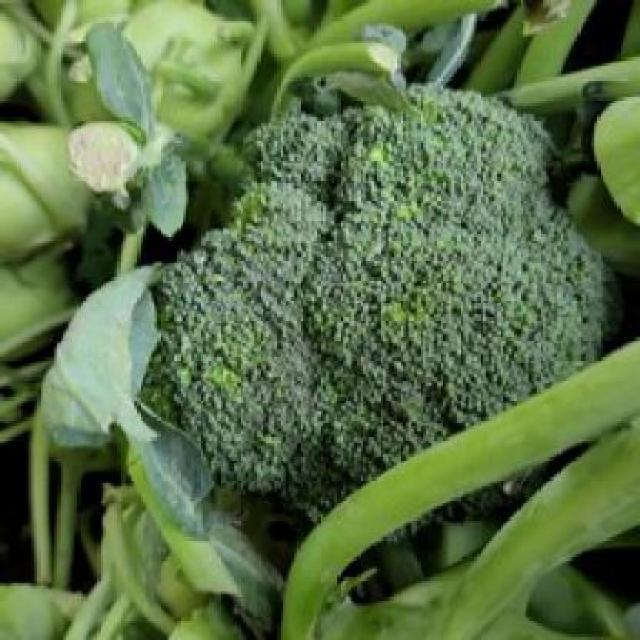broccoli: (111, 99, 594, 532)
